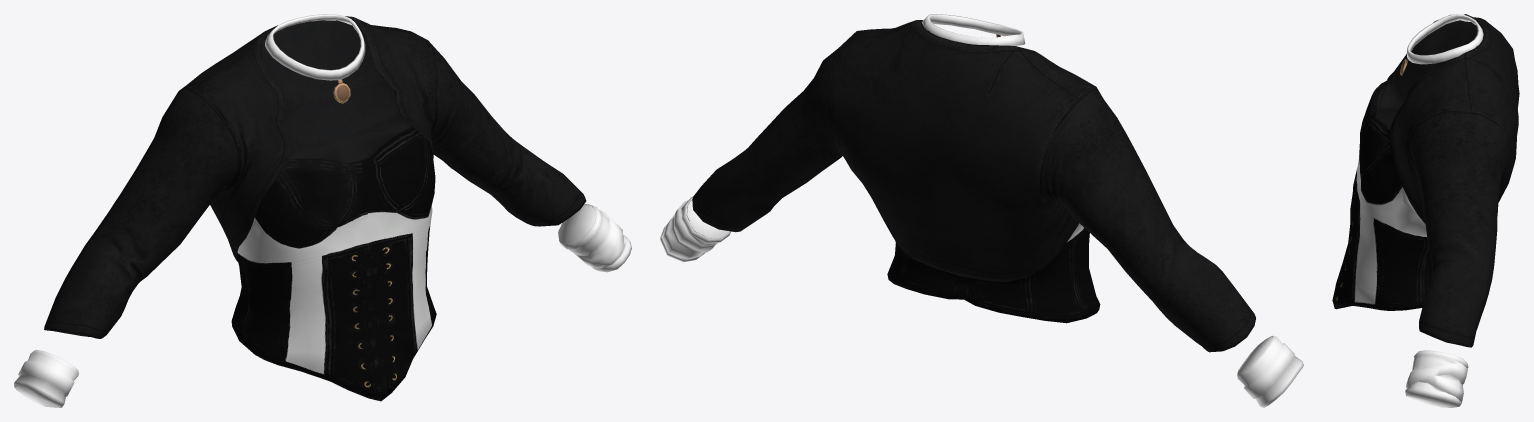
File: SurvivorMale_Chest_Shirt_ArchCorsetSleeves_LOD0.glb
3 renders of one model, left to right at view 1: azimuth 30°, elevation 25°; view 2: azimuth 150°, elevation 25°; view 3: azimuth 270°, elevation 25°, orthographic. The views are drawn at different scales.
Visible parts, largest first — view 1: Hoodie; view 2: Hoodie; view 3: Hoodie.
Boxes of the visible parts, x1=… form: Hoodie: x1=14, y1=14, x2=631, y2=407; Hoodie: x1=660, y1=14, x2=1303, y2=407; Hoodie: x1=1332, y1=14, x2=1519, y2=407.
Bounding box in the file's own units: 1.13 × 0.5744 × 0.3489.
1 material, 1 textured.
